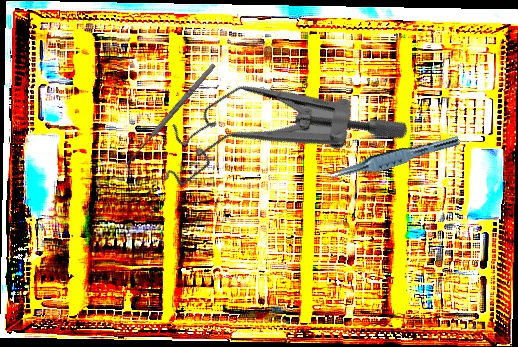Hook Surgical: (120, 61, 222, 174)
Speculum: (139, 17, 413, 260)
Tissue Forceps: (323, 128, 461, 188)
